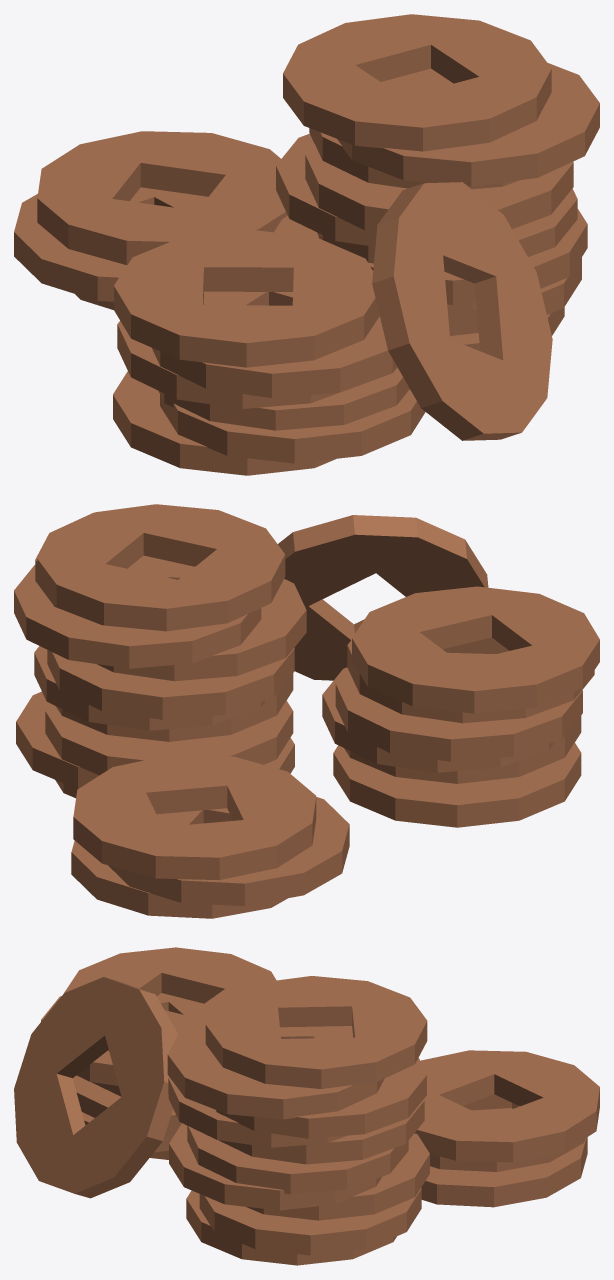
File: CoinStackLarge.fbx
The picture shows the model from 3 angles, top to bottom: view 1: azimuth 30°, elevation 25°; view 2: azimuth 150°, elevation 25°; view 3: azimuth 270°, elevation 25°; orthographic projection. The views are drawn at different scales.
Visible parts, largest first — view 1: Cylinder.001; view 2: Cylinder.001; view 3: Cylinder.001.
Part boxes in pixels (x1=…): Cylinder.001: x1=14, y1=14, x2=599, y2=475; Cylinder.001: x1=14, y1=504, x2=599, y2=918; Cylinder.001: x1=14, y1=947, x2=599, y2=1265.
Size of the model in its own units: 0.3415 by 0.1503 by 0.4083.
